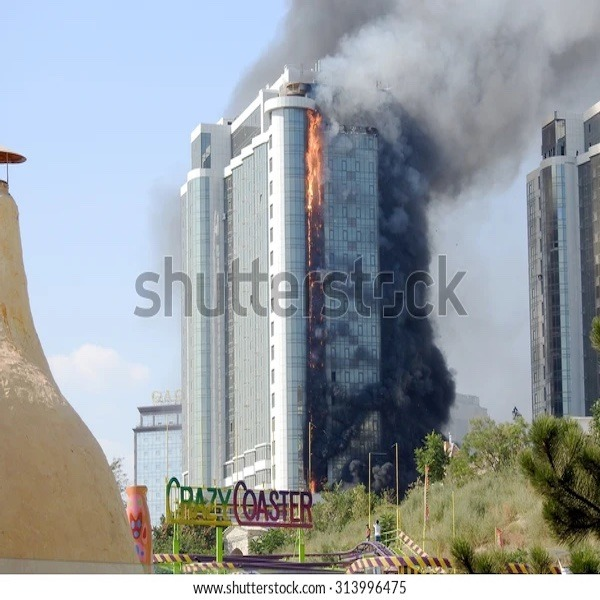fire: (302, 110, 324, 259), (308, 110, 356, 132)
